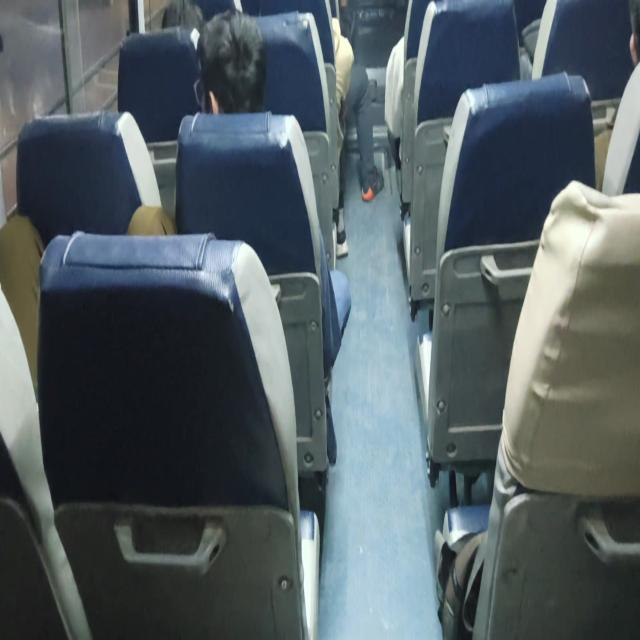person: (200, 24, 264, 118), (162, 0, 217, 41)
